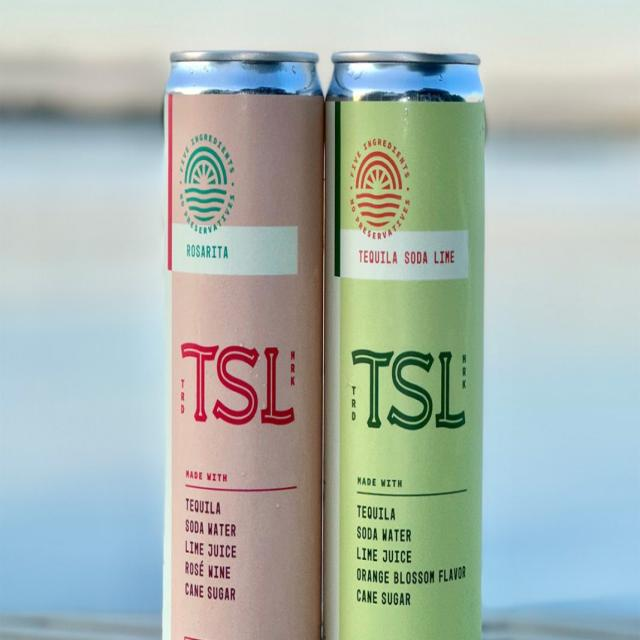Cans: (318, 41, 490, 640), (157, 37, 326, 640)
